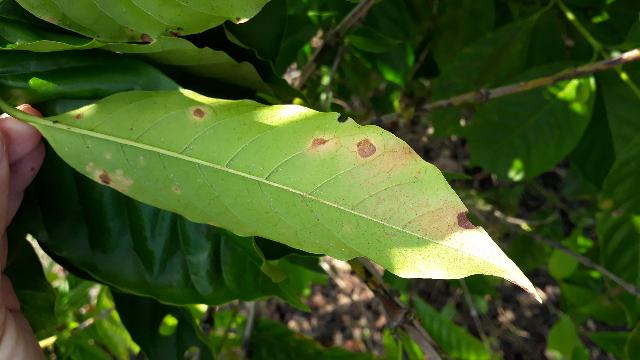rust_level_1: (28, 90, 542, 298)
